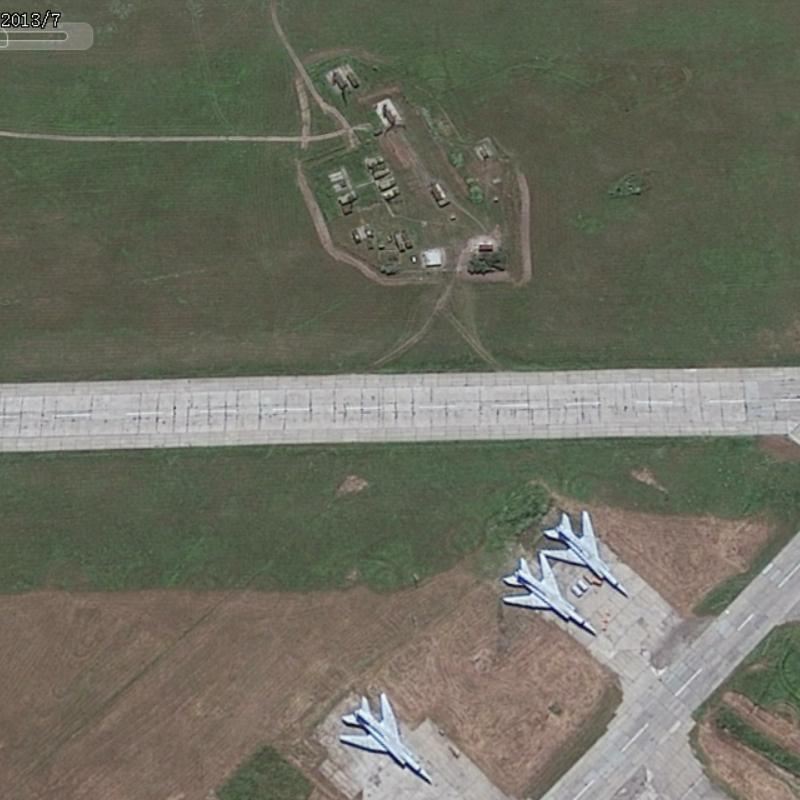A12: (336, 690, 435, 783), (499, 550, 600, 637), (536, 507, 632, 598)
